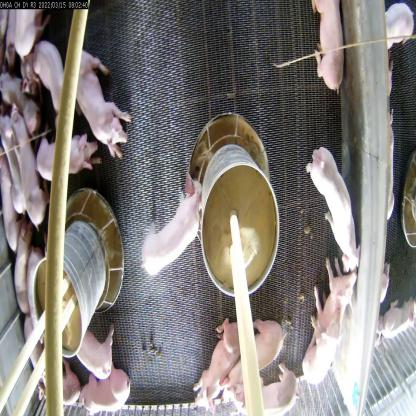Pig: (304, 141, 366, 279), (2, 107, 60, 231), (67, 48, 131, 160), (140, 173, 202, 283), (303, 0, 350, 91), (311, 257, 357, 342), (30, 134, 107, 181), (306, 308, 340, 402), (27, 40, 69, 110), (75, 361, 133, 410), (75, 324, 122, 382), (10, 224, 37, 314)
